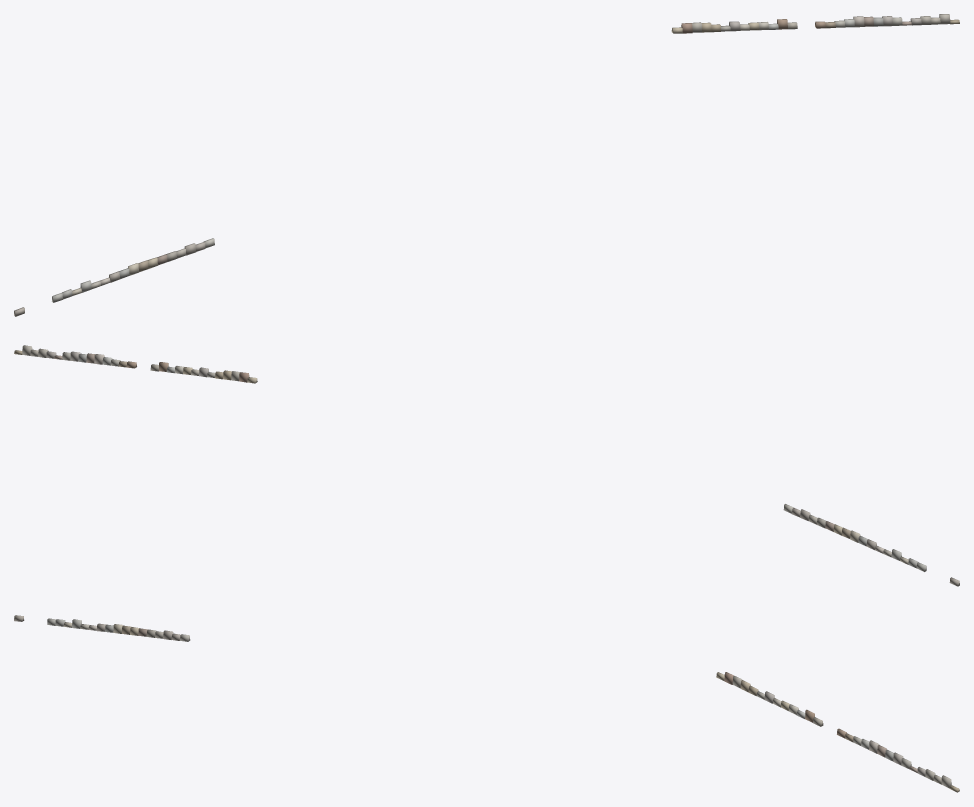
Rendered from farm_10_23_far.glb.
3 renders of one model, top to bottom at view 1: azimuth 30°, elevation 25°; view 2: azimuth 150°, elevation 25°; view 3: azimuth 330°, elevation 25°, orthographic. The views are drawn at different scales.
Parts seen in each view (by area): view 1: geometry_0; view 2: geometry_0; view 3: geometry_0.
Boxes of the visible parts, x1=… form: geometry_0: x1=14, y1=14, x2=959, y2=316; geometry_0: x1=14, y1=345, x2=959, y2=586; geometry_0: x1=14, y1=615, x2=959, y2=792.
Bounding box in the file's own units: 169 × 14.19 × 16.29.
